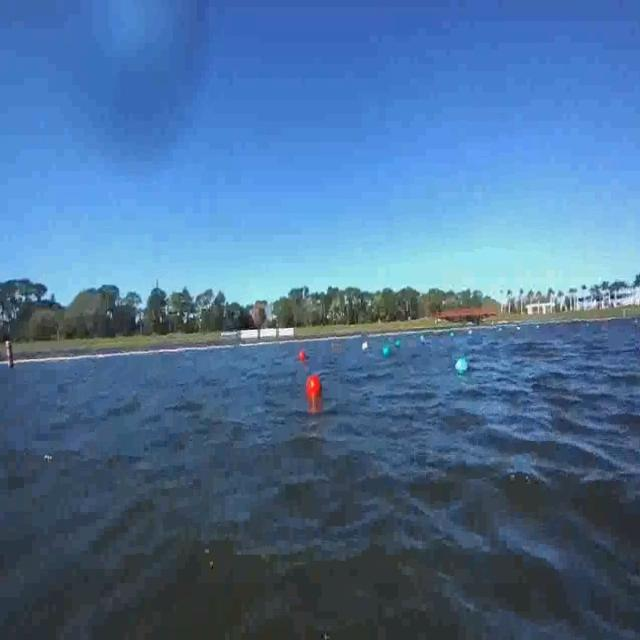green-buoy: (456, 354, 469, 376), (383, 346, 391, 358)
red-buoy: (307, 376, 321, 400), (296, 346, 309, 362)
yellow-buoy: (361, 340, 369, 356)
